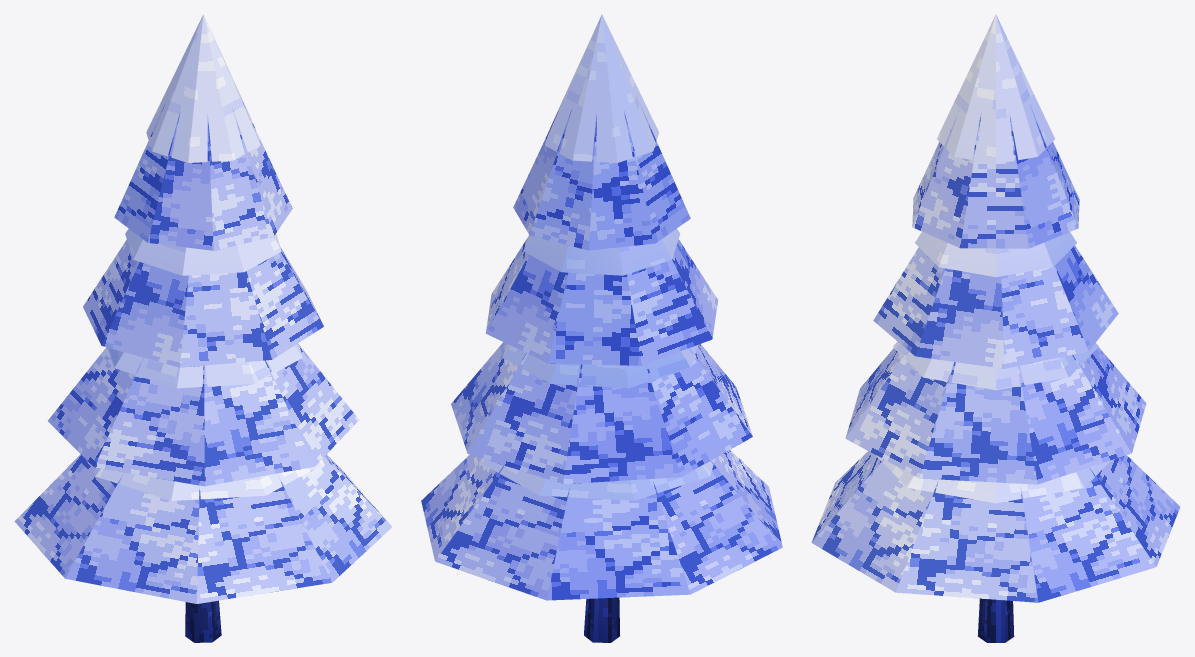
The model's file is nature.tree__frosted.glb.
The picture shows the model from 3 angles, left to right: view 1: azimuth 30°, elevation 25°; view 2: azimuth 150°, elevation 25°; view 3: azimuth 270°, elevation 25°; orthographic projection.
Parts seen in each view (by area): view 1: kit_canopy, kit_cap, kit_trunk; view 2: kit_canopy, kit_cap, kit_trunk; view 3: kit_canopy, kit_cap, kit_trunk.
Part boxes in pixels (x1,y1,x2,y2): kit_canopy: (14,103,391,603); kit_cap: (92,14,323,500); kit_trunk: (185,600,221,642); kit_canopy: (421,100,782,600); kit_cap: (481,14,715,500); kit_trunk: (584,597,619,642); kit_canopy: (811,105,1180,602); kit_cap: (876,14,1110,503); kit_trunk: (977,598,1014,642).
Bounding box in the file's own units: 3.65 × 6.8 × 3.65.
3 materials, 3 textured.
